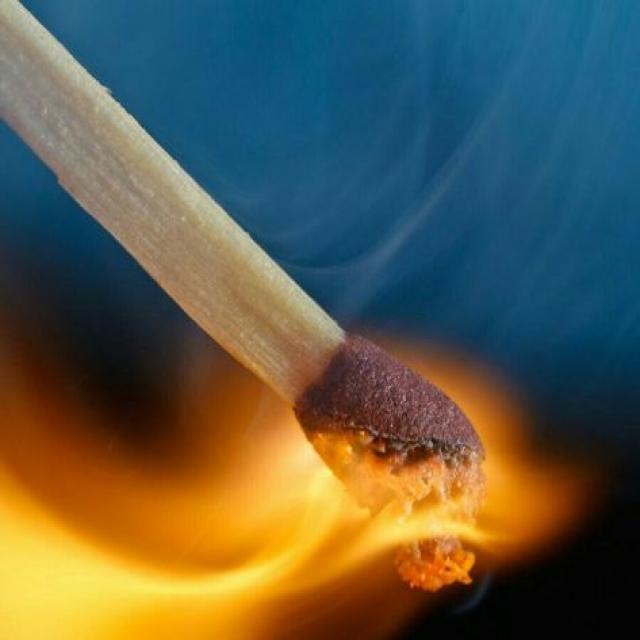Fire: (0, 298, 588, 640), (278, 3, 640, 298)
